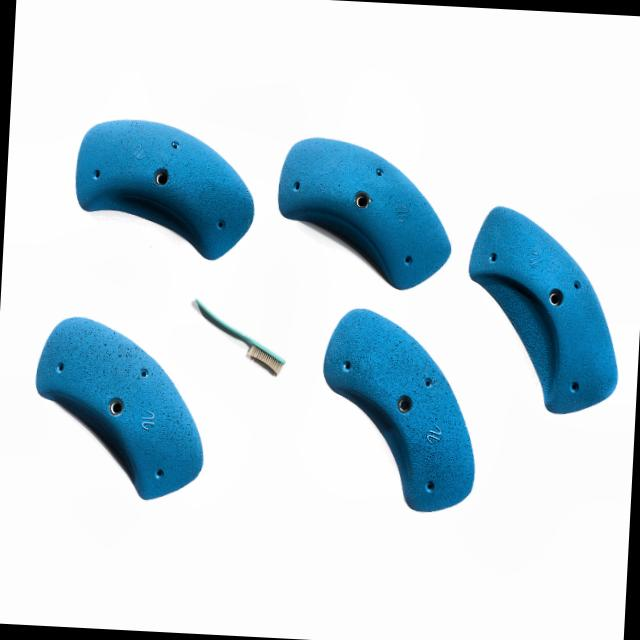Hold: (25, 309, 214, 504), (459, 198, 631, 412), (312, 303, 483, 513), (275, 132, 457, 292), (73, 121, 260, 261)
